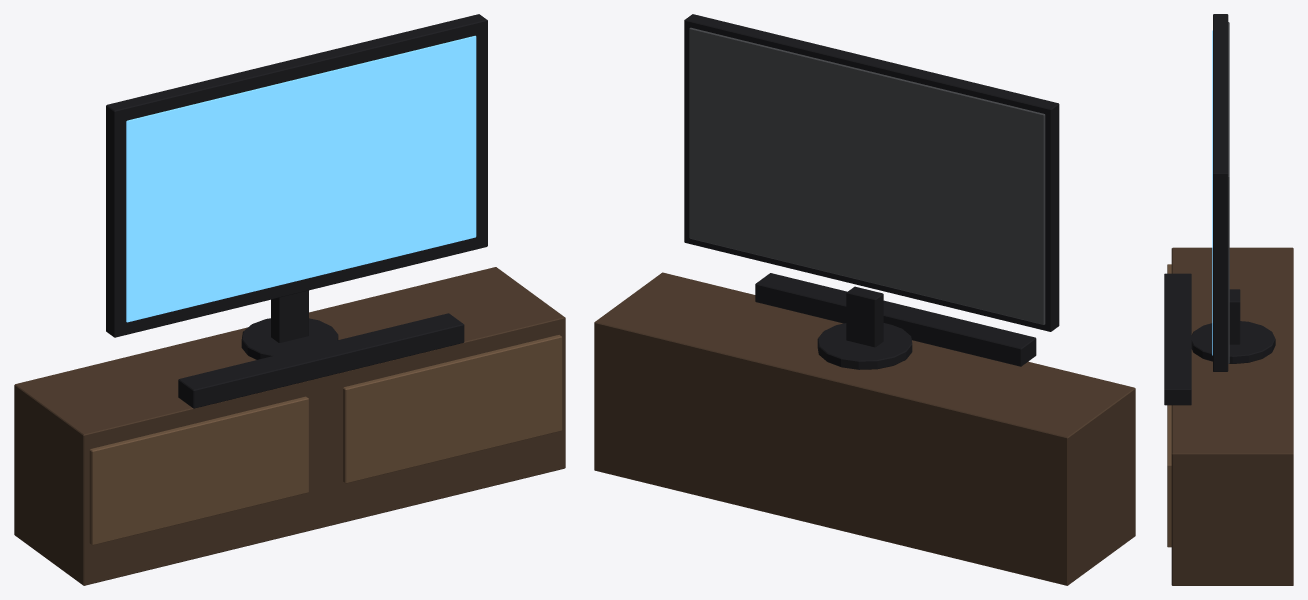
Rendered from PRP_TV_ND_v001.glb.
3 renders of one model, left to right at view 1: azimuth 30°, elevation 25°; view 2: azimuth 150°, elevation 25°; view 3: azimuth 270°, elevation 25°, orthographic. The views are drawn at different scales.
Visible parts, largest first — view 1: PRP_TV_ND_v001; view 2: PRP_TV_ND_v001; view 3: PRP_TV_ND_v001.
Part boxes in pixels (box(x1,y1,x2,y2)): PRP_TV_ND_v001: box(14, 14, 565, 585); PRP_TV_ND_v001: box(594, 14, 1135, 585); PRP_TV_ND_v001: box(1164, 14, 1293, 585).
Size of the model in its own units: 1.6 by 1.41 by 0.425.
